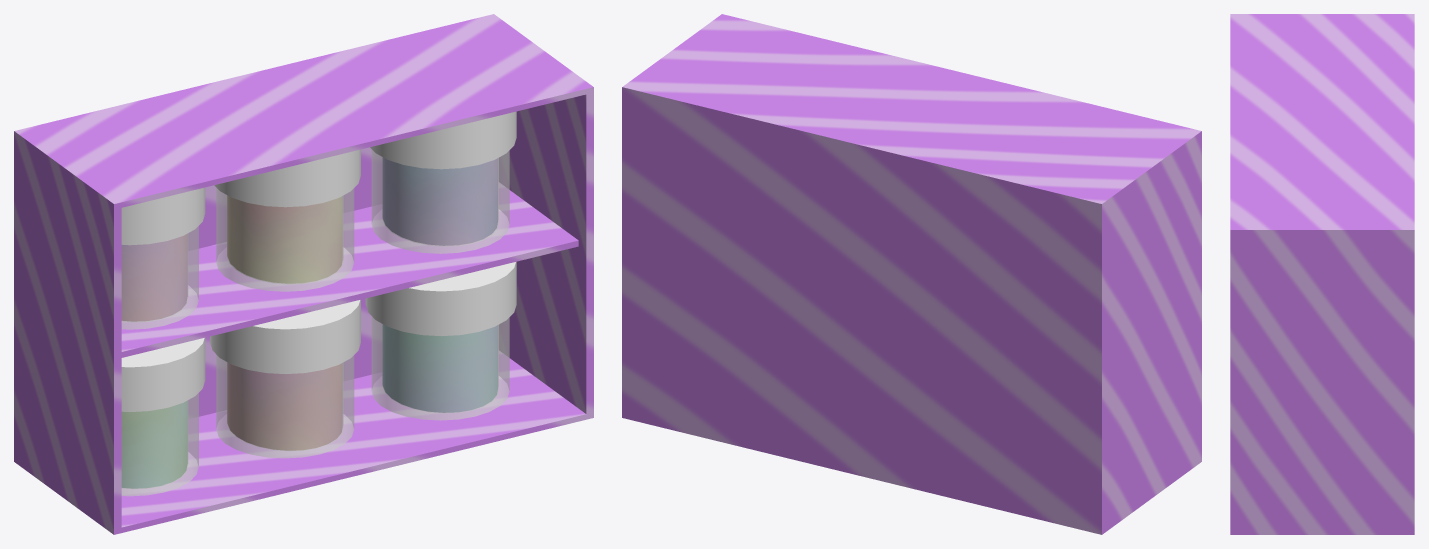
The model's file is glitterEmbalagem.fbx.
The picture shows the model from 3 angles, left to right: view 1: azimuth 30°, elevation 25°; view 2: azimuth 150°, elevation 25°; view 3: azimuth 270°, elevation 25°; orthographic projection. The views are drawn at different scales.
Visible parts, largest first — view 1: Embalagem, Pote.002, Pote.001, Pote.005, Pote.004, Glitter.004, Glitter.001, Glitter.005, Glitter.002, Tampa.005, Tampa.004, Pote (+7 smaller); view 2: Embalagem; view 3: Embalagem.
Boxes of the visible parts, bbox=[...] form: Embalagem: bbox=[14, 14, 593, 534]; Pote.002: bbox=[371, 149, 509, 253]; Pote.001: bbox=[216, 188, 354, 291]; Pote.005: bbox=[371, 316, 509, 420]; Pote.004: bbox=[216, 355, 354, 458]; Glitter.004: bbox=[227, 363, 342, 450]; Glitter.001: bbox=[227, 196, 342, 283]; Glitter.005: bbox=[383, 324, 497, 412]; Glitter.002: bbox=[383, 158, 497, 245]; Tampa.005: bbox=[365, 261, 516, 336]; Tampa.004: bbox=[210, 299, 360, 373]; Pote: bbox=[121, 226, 198, 329]; Embalagem: bbox=[622, 14, 1201, 534]; Embalagem: bbox=[1230, 14, 1414, 534].
Size of the model in its own units: 152 by 99.95 by 54.7.
